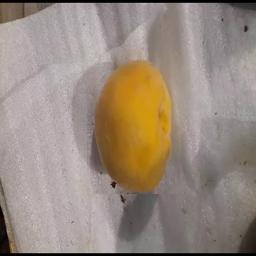Peach Semifresh: (88, 62, 185, 195)
